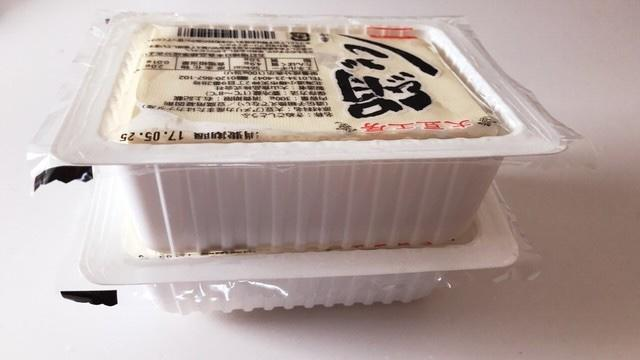plastic: (35, 14, 573, 313)
